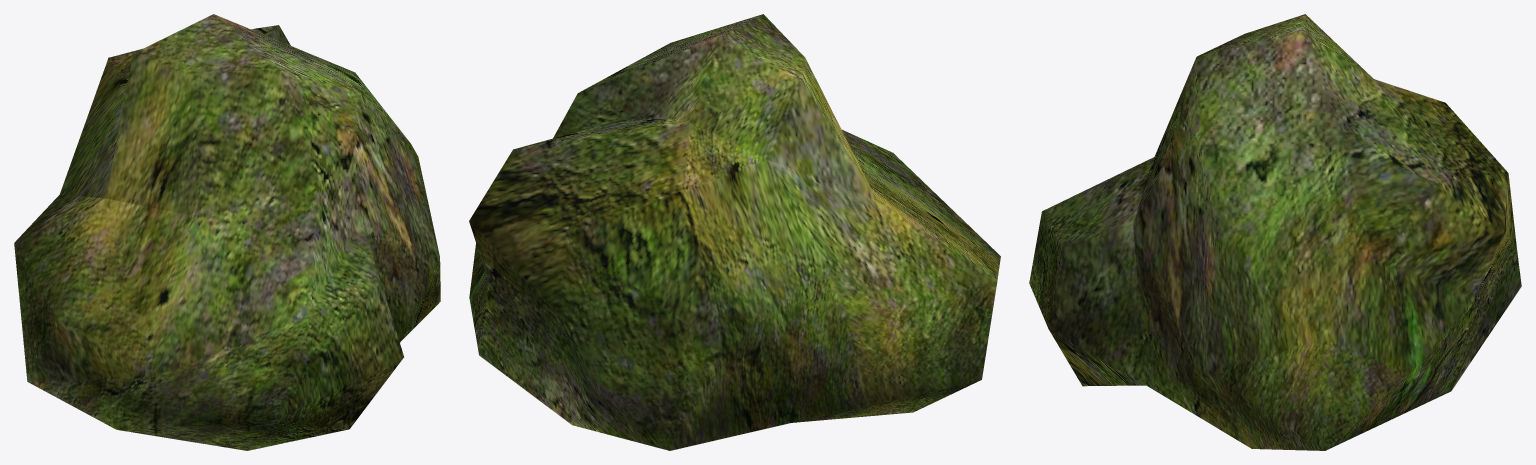
File: rock_endr_mossyrock_sm_a1_l1.fbx
3 views of the same model, side by side, from view 1: azimuth 30°, elevation 25°; view 2: azimuth 150°, elevation 25°; view 3: azimuth 270°, elevation 25° (orthographic). The views are drawn at different scales.
Parts seen in each view (by area): view 1: mesh_node; view 2: mesh_node; view 3: mesh_node.
Part boxes in pixels (x1,y1,x2,y2): mesh_node: (14,14,440,450); mesh_node: (469,14,1000,450); mesh_node: (1029,14,1521,450).
Size of the model in its own units: 1.02 by 0.8278 by 1.01.
